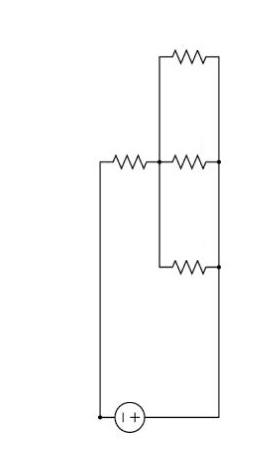resistor: (160, 35, 221, 81), (164, 143, 219, 179), (98, 145, 157, 174), (153, 256, 219, 276)
